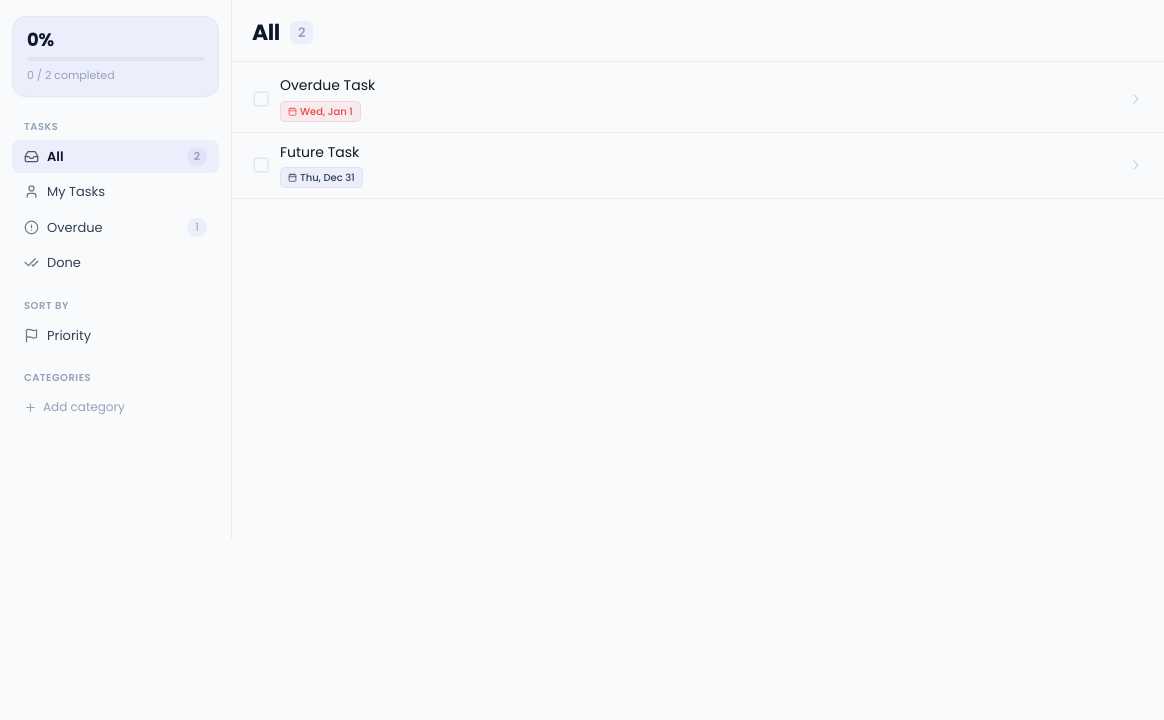
TodoListPanel › FE-COMP-TODO-016: Overdue filter shows items with past due_date
Click the button "Overdue 1" at {"x": 116, "y": 227}, box [12,210,219,244]
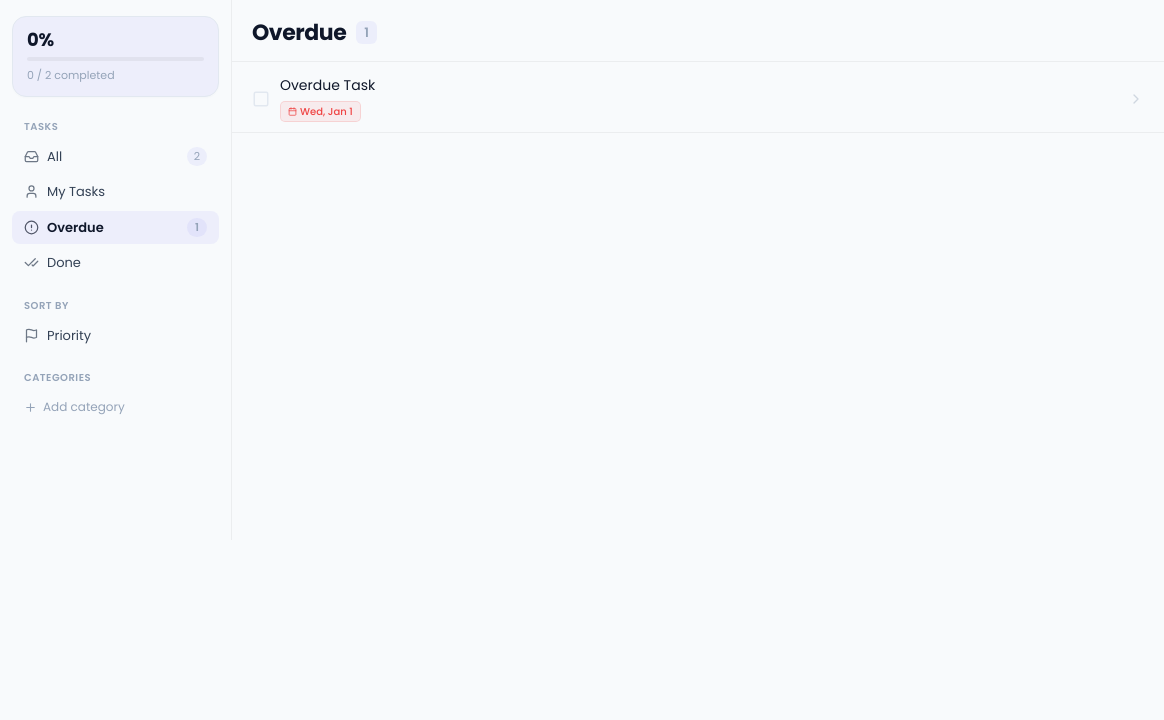
Check: the text "Overdue Task" is shown, box [280,75,375,95]
Check: the text "Future Task" is gone
